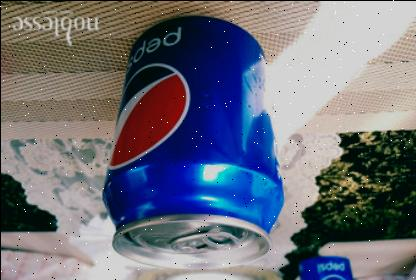Can: (100, 15, 282, 267)
